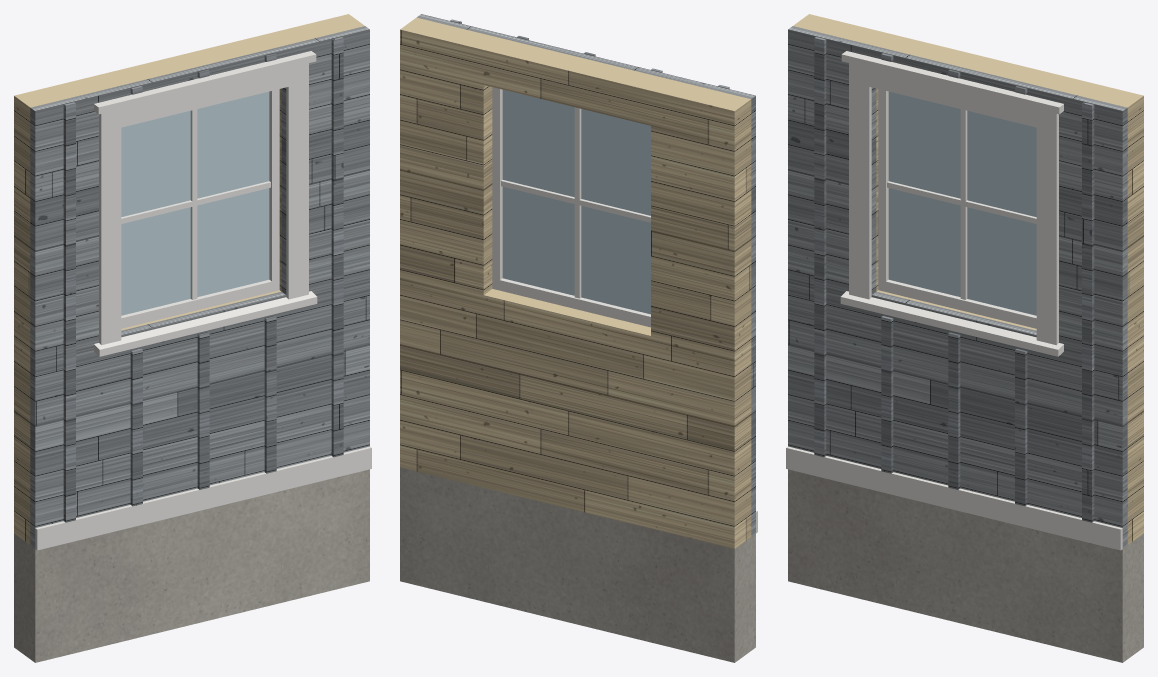
File: o_win.glb
The picture shows the model from 3 angles, left to right: view 1: azimuth 30°, elevation 25°; view 2: azimuth 150°, elevation 25°; view 3: azimuth 330°, elevation 25°; orthographic projection.
Parts seen in each view (by area): view 1: o_win_siding, o_win_concrete, o_win_trim, o_win_glass, o_win_batten, o_win_plaster; view 2: o_win_plaster, o_win_concrete, o_win_glass, o_win_trim, o_win_siding; view 3: o_win_siding, o_win_concrete, o_win_trim, o_win_glass, o_win_batten, o_win_plaster.
Boxes of the visible parts, left/top/right/bottom form: o_win_siding: left=30, top=26, right=369, bottom=548; o_win_concrete: left=14, top=469, right=369, bottom=662; o_win_trim: left=35, top=51, right=371, bottom=550; o_win_glass: left=121, top=91, right=269, bottom=315; o_win_batten: left=63, top=36, right=343, bottom=522; o_win_plaster: left=14, top=14, right=364, bottom=544; o_win_plaster: left=400, top=17, right=751, bottom=548; o_win_concrete: left=400, top=467, right=755, bottom=662; o_win_glass: left=502, top=90, right=650, bottom=314; o_win_trim: left=492, top=87, right=757, bottom=533; o_win_siding: left=417, top=14, right=755, bottom=536; o_win_siding: left=788, top=26, right=1127, bottom=548; o_win_concrete: left=788, top=469, right=1143, bottom=662; o_win_trim: left=786, top=51, right=1122, bottom=550; o_win_glass: left=888, top=91, right=1036, bottom=315; o_win_batten: left=814, top=36, right=1094, bottom=522; o_win_plaster: left=793, top=14, right=1143, bottom=544.
Size of the model in its own units: 2 by 3.15 by 0.28.
Materials: 6 (4 with a texture image).
